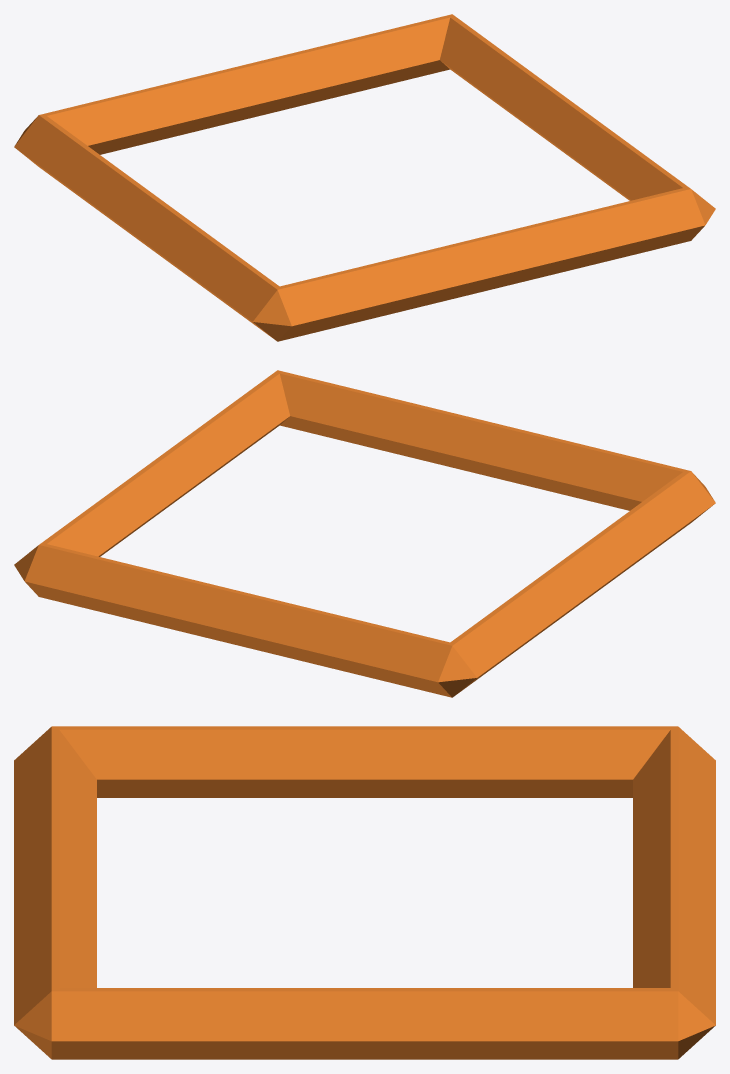
Rendered from border.glb.
3 views of the same model, one above another, from view 1: azimuth 30°, elevation 25°; view 2: azimuth 150°, elevation 25°; view 3: azimuth 270°, elevation 25° (orthographic). The views are drawn at different scales.
Visible parts, largest first — view 1: Cube.186, Cube.188, Cube.004, Cube.187; view 2: Cube.188, Cube.186, Cube.004, Cube.187; view 3: Cube.187, Cube.004, Cube.186, Cube.188.
Boxes of the visible parts, x1,y1,x2,y2 form: Cube.186: (250, 187, 715, 341); Cube.188: (15, 15, 452, 154); Cube.004: (14, 114, 296, 341); Cube.187: (440, 14, 690, 200); Cube.188: (14, 543, 478, 696); Cube.186: (275, 370, 715, 523); Cube.004: (433, 470, 712, 697); Cube.187: (17, 371, 289, 580); Cube.187: (14, 988, 715, 1059); Cube.004: (14, 726, 715, 797); Cube.186: (14, 727, 96, 1058); Cube.188: (633, 726, 715, 1056).
Size of the model in its own units: 3.8 by 0.4075 by 3.8.
